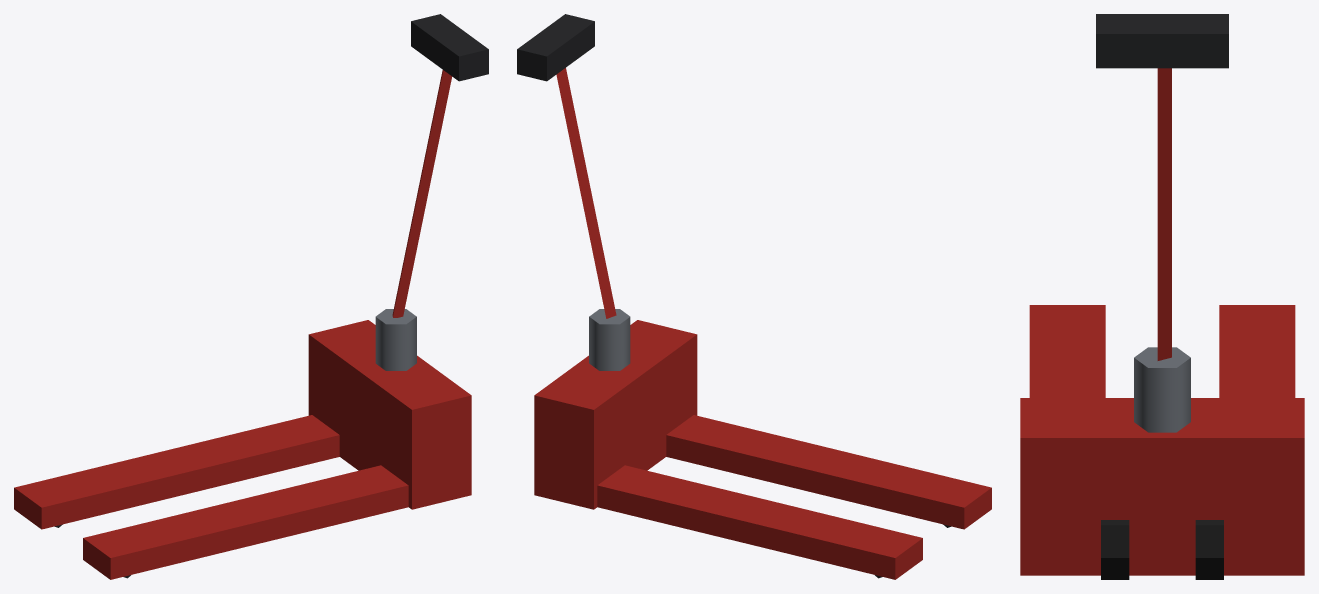
File: pallet_jack.glb
3 renders of one model, left to right at view 1: azimuth 30°, elevation 25°; view 2: azimuth 150°, elevation 25°; view 3: azimuth 270°, elevation 25°, orthographic. The views are drawn at different scales.
Visible parts, largest first — view 1: pallet_jack; view 2: pallet_jack; view 3: pallet_jack.
Part boxes in pixels (x1,y1,x2,y2): pallet_jack: (14, 14, 488, 579); pallet_jack: (517, 14, 991, 579); pallet_jack: (1020, 14, 1304, 579).
Bounding box in the file's own units: 1.35 × 1.36 × 0.6.
Materials: 1 (1 with a texture image).
